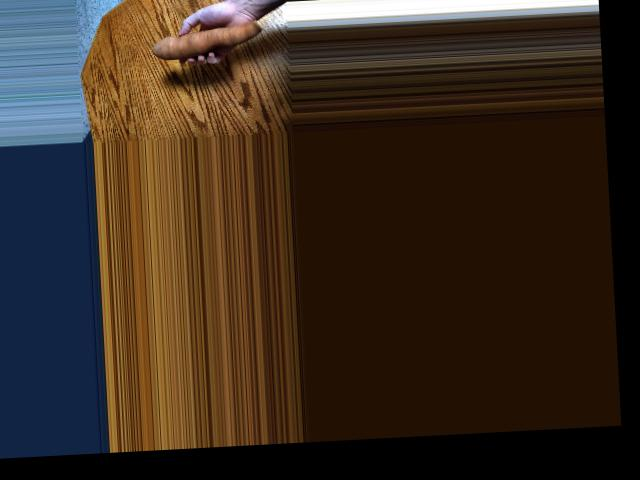sweet_potato: (151, 19, 257, 68)
